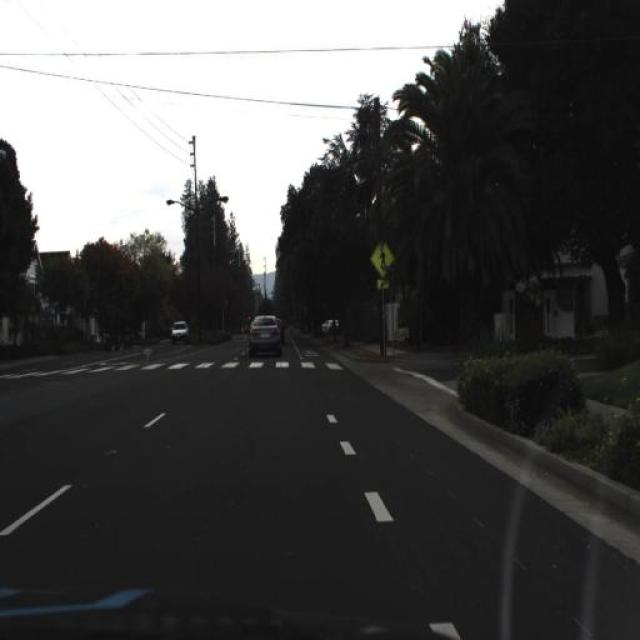car: (236, 299, 283, 373), (168, 316, 192, 346), (277, 310, 291, 351)
